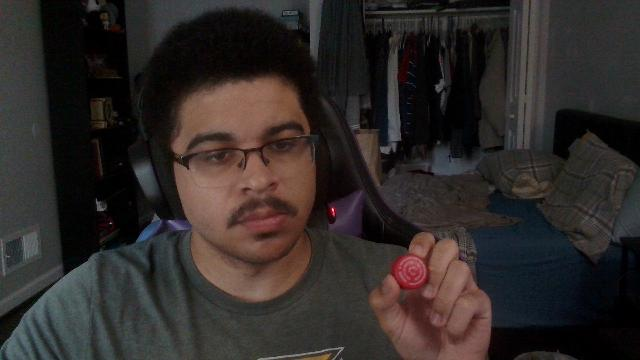cap: (390, 254, 428, 290)
